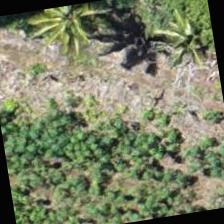Kelapa_Sawit: (122, 0, 221, 92), (33, 0, 132, 71)
